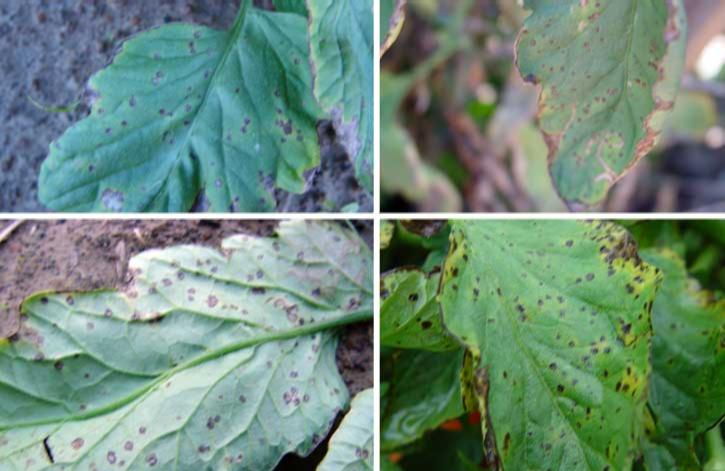Tomato leaf bacterial spot: (0, 224, 356, 471), (419, 216, 663, 471), (40, 0, 314, 207), (494, 0, 683, 210)
